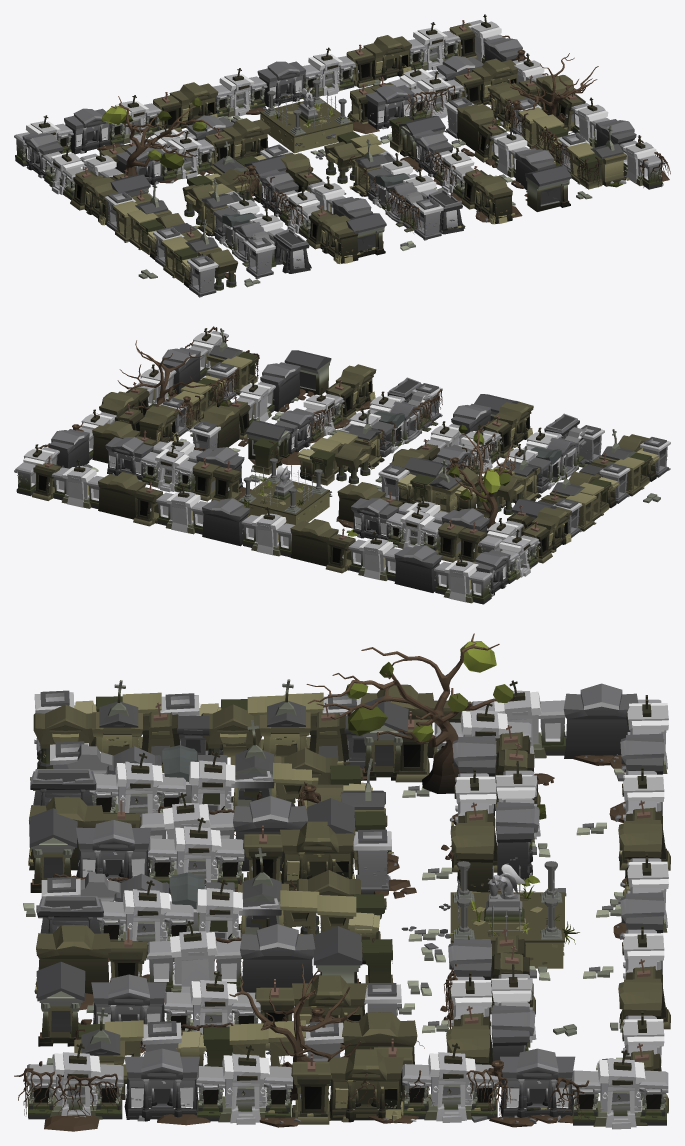
The model's file is NecroPOLY_Chunk_01d.fbx.
3 renders of one model, top to bottom at view 1: azimuth 30°, elevation 25°; view 2: azimuth 150°, elevation 25°; view 3: azimuth 270°, elevation 25°, orthographic. The views are drawn at different scales.
Visible parts, largest first — view 1: NecroPOLY_Chunk_01d_LOD0; view 2: NecroPOLY_Chunk_01d_LOD0; view 3: NecroPOLY_Chunk_01d_LOD0.
Part boxes in pixels (x1,y1,x2,y2): NecroPOLY_Chunk_01d_LOD0: (14,14,670,297); NecroPOLY_Chunk_01d_LOD0: (14,326,670,604); NecroPOLY_Chunk_01d_LOD0: (14,633,670,1131).
Size of what is drawn, in the model's own units: 135 by 24.78 by 90.14.
